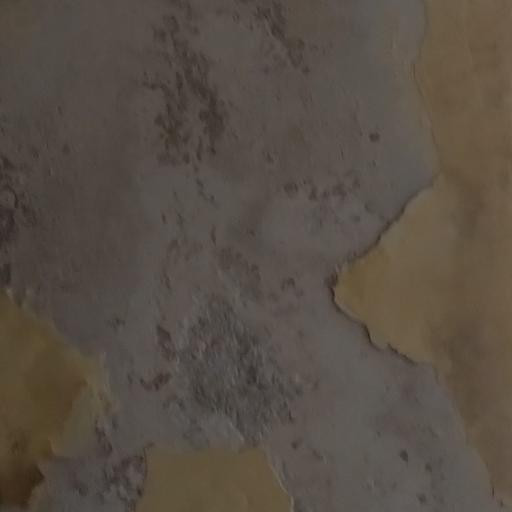peeling: (0, 0, 505, 506)
